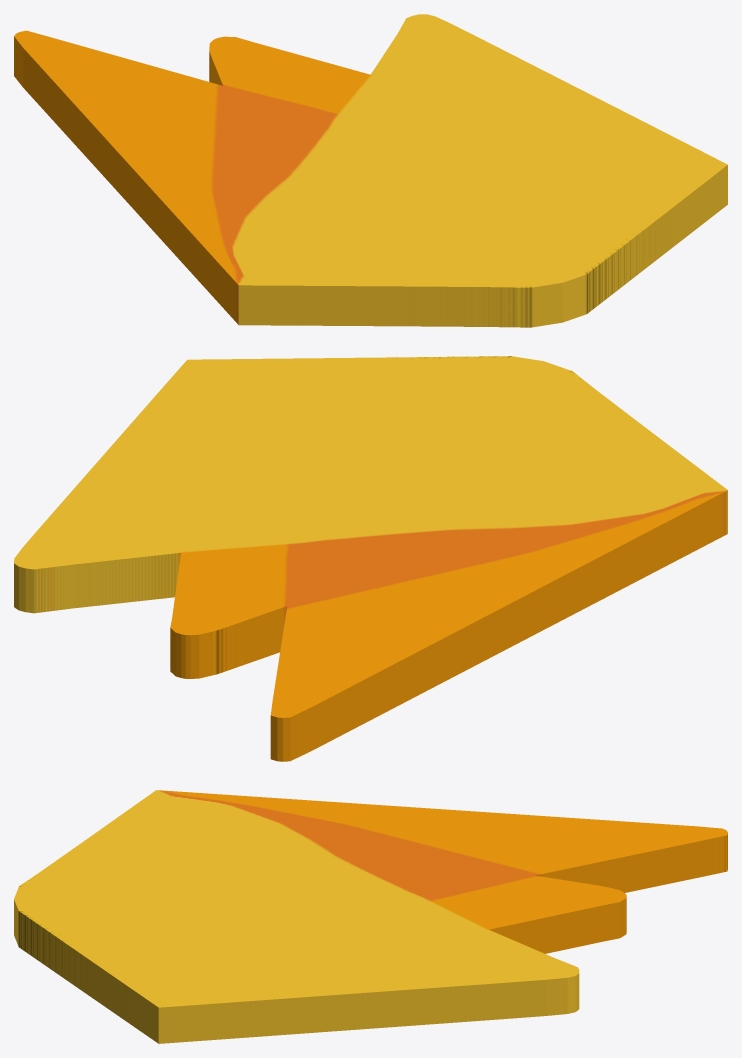
The model's file is firebase.glb.
The picture shows the model from 3 angles, top to bottom: view 1: azimuth 30°, elevation 25°; view 2: azimuth 150°, elevation 25°; view 3: azimuth 270°, elevation 25°; orthographic projection. The views are drawn at different scales.
Parts seen in each view (by area): view 1: firebase2; view 2: firebase2; view 3: firebase2.
Boxes of the visible parts, x1,y1,x2,y2 form: firebase2: [14, 14, 727, 327]; firebase2: [14, 356, 727, 761]; firebase2: [14, 790, 727, 1043].
Size of the model in its own units: 2.57 by 0.2 by 3.57.
1 material, 1 textured.
